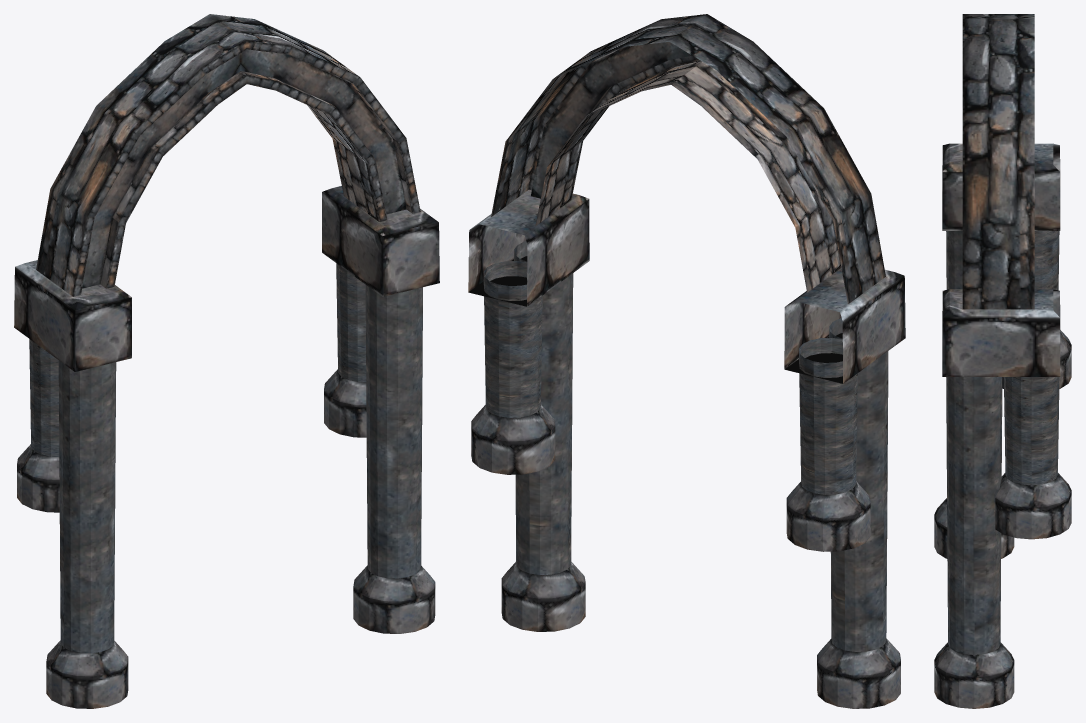
The model's file is CryptArcSm2.fbx.
3 renders of one model, left to right at view 1: azimuth 30°, elevation 25°; view 2: azimuth 150°, elevation 25°; view 3: azimuth 270°, elevation 25°, orthographic. The views are drawn at different scales.
Parts seen in each view (by area): view 1: Cylinder.008; view 2: Cylinder.008; view 3: Cylinder.008.
Boxes of the visible parts, left/top/right/bottom form: Cylinder.008: left=14, top=14, right=439, bottom=708; Cylinder.008: left=468, top=14, right=905, bottom=708; Cylinder.008: left=934, top=14, right=1071, bottom=708.
Size of the model in its own units: 188 by 293 by 60.9.
